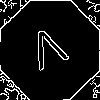V: (25, 25, 74, 80)
